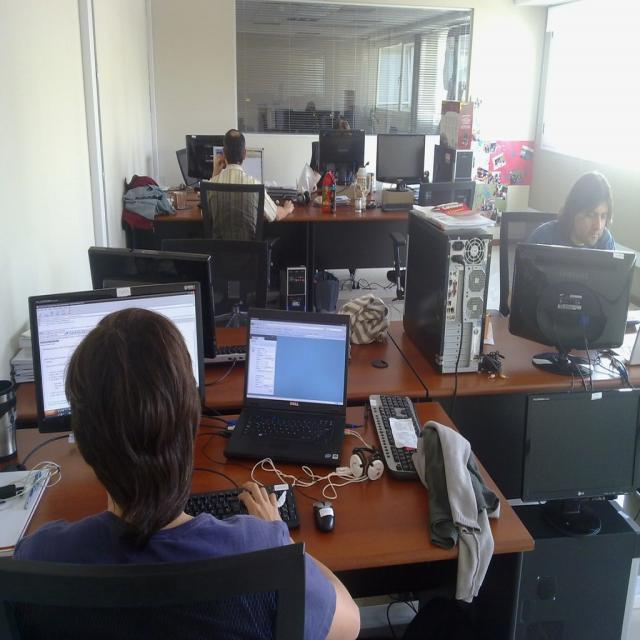chair: (3, 548, 288, 640), (199, 181, 264, 241)
desk: (19, 402, 533, 636)
laptop: (28, 284, 208, 436), (224, 310, 350, 472)
mouse: (312, 502, 336, 533)
person: (9, 310, 359, 640), (204, 128, 290, 230), (528, 171, 618, 252)
tv: (28, 283, 208, 442), (520, 388, 639, 508), (507, 243, 637, 352), (316, 128, 366, 180), (376, 132, 426, 183)
